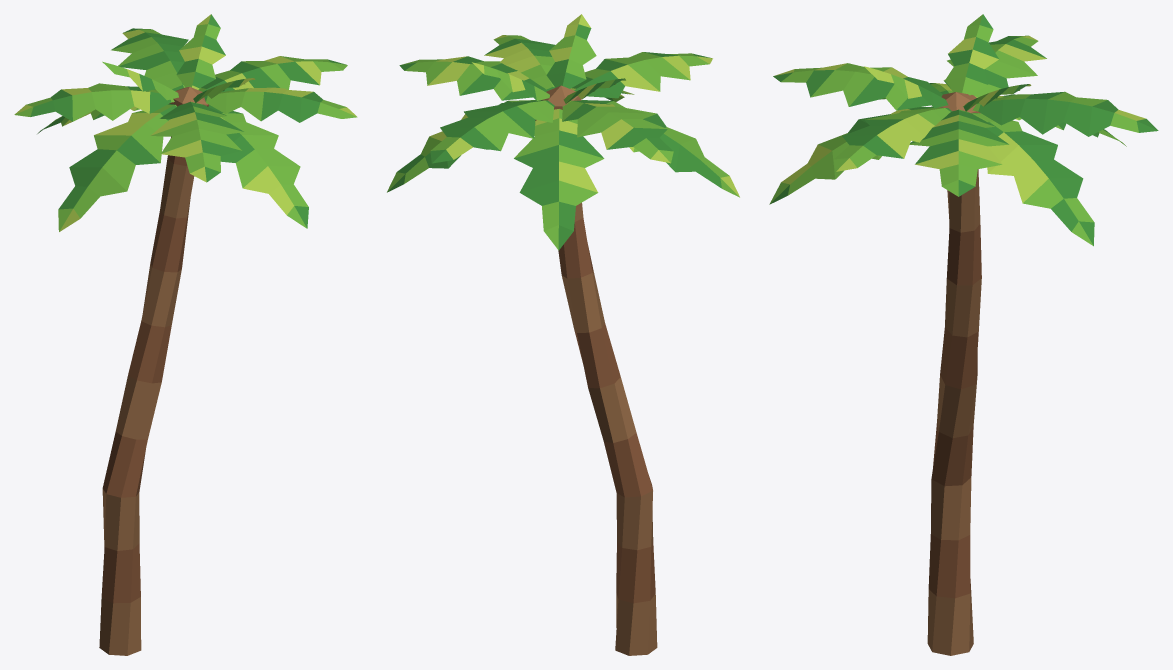
The model's file is palm_a.glb.
3 views of the same model, side by side, from view 1: azimuth 30°, elevation 25°; view 2: azimuth 150°, elevation 25°; view 3: azimuth 270°, elevation 25° (orthographic). The views are drawn at different scales.
Visible parts, largest first — view 1: body; view 2: body; view 3: body.
Boxes of the visible parts, bbox=[...] form: body: bbox=[14, 14, 357, 655]; body: bbox=[387, 14, 739, 655]; body: bbox=[769, 14, 1158, 655].
Bounding box in the file's own units: 4.81 × 8.43 × 4.73.
